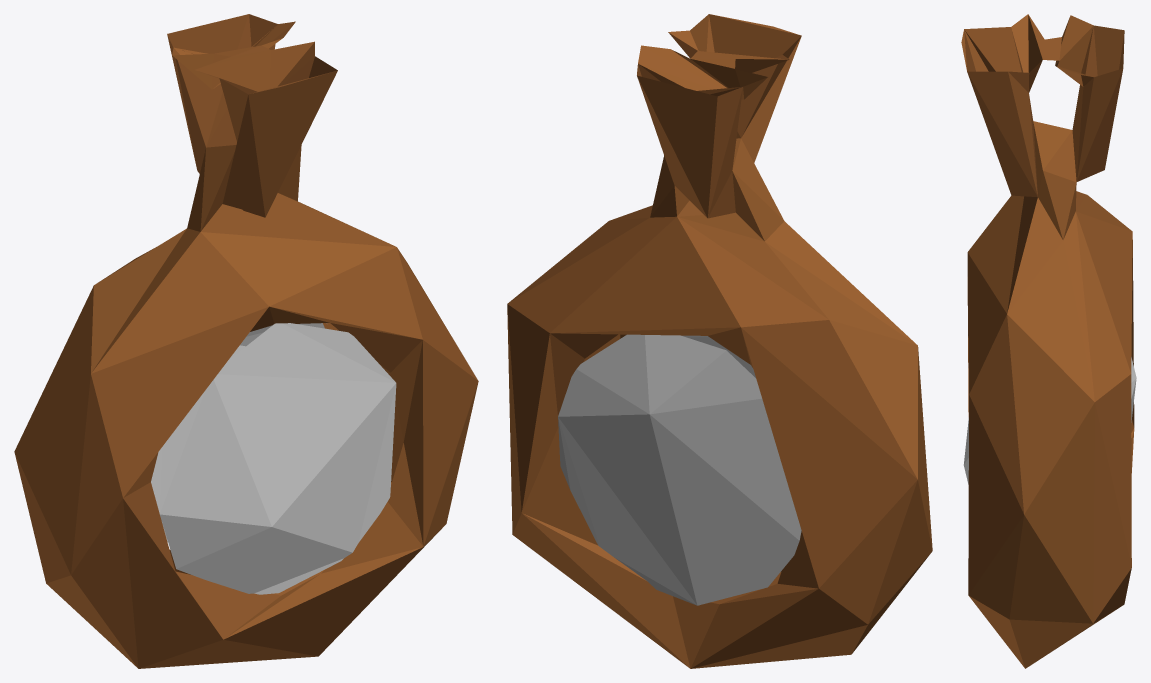
The model's file is aiwpn_amulet_lo.glb.
3 views of the same model, side by side, from view 1: azimuth 30°, elevation 25°; view 2: azimuth 150°, elevation 25°; view 3: azimuth 270°, elevation 25° (orthographic). The views are drawn at different scales.
Parts seen in each view (by area): view 1: ca_aiwpn_amulet_lo; view 2: ca_aiwpn_amulet_lo; view 3: ca_aiwpn_amulet_lo.
Boxes of the visible parts, left/top/right/bottom form: ca_aiwpn_amulet_lo: left=14, top=14, right=478, bottom=668; ca_aiwpn_amulet_lo: left=507, top=14, right=932, bottom=668; ca_aiwpn_amulet_lo: left=961, top=14, right=1136, bottom=668.
Size of the model in its own units: 0.2795 by 0.3774 by 0.1003.
